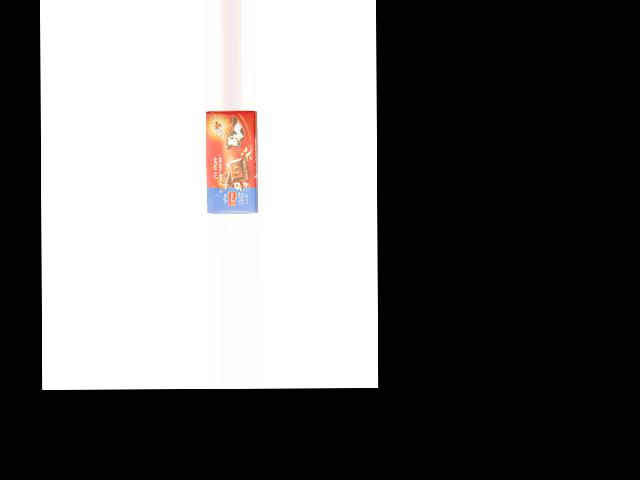chocolate: (206, 109, 257, 213)
